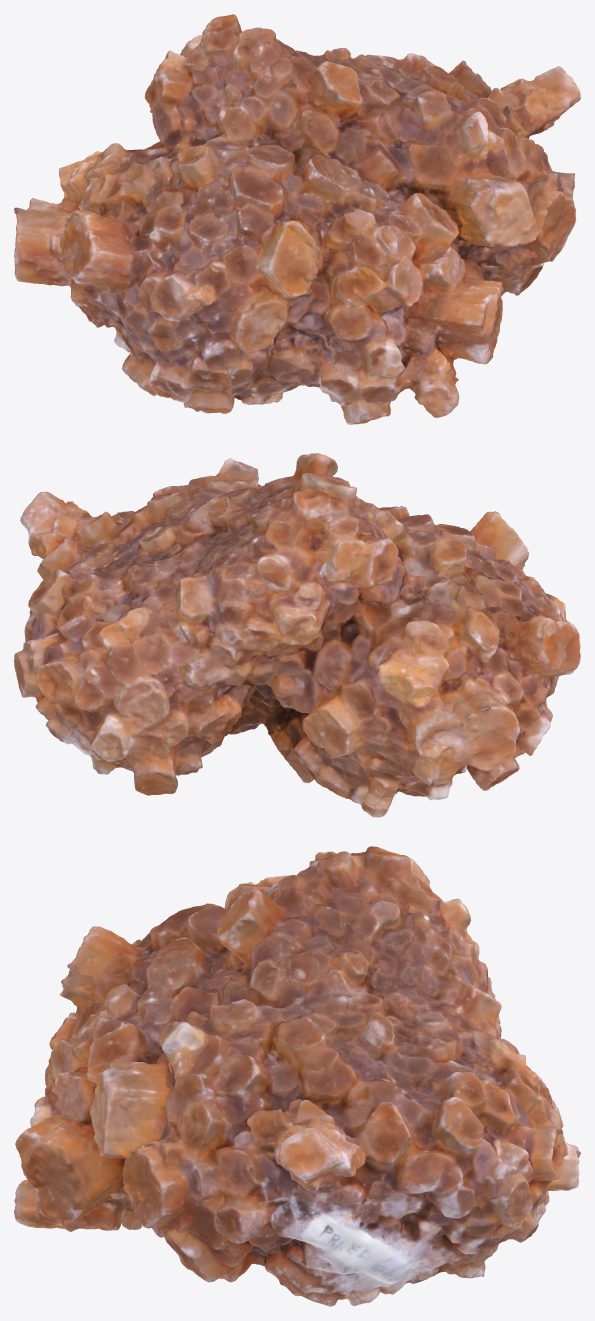
The model's file is mineral_aragonite.glb.
3 renders of one model, top to bottom at view 1: azimuth 30°, elevation 25°; view 2: azimuth 150°, elevation 25°; view 3: azimuth 270°, elevation 25°, orthographic. The views are drawn at different scales.
Visible parts, largest first — view 1: Object_3, Object_2, Object_4; view 2: Object_2, Object_3, Object_4; view 3: Object_2, Object_3, Object_4.
Boxes of the visible parts, <box> form: Object_3: <box>14,14,547,424</box>; Object_2: <box>154,27,580,402</box>; Object_4: <box>182,14,493,402</box>; Object_2: <box>14,453,368,795</box>; Object_3: <box>218,453,580,817</box>; Object_4: <box>265,459,356,790</box>; Object_2: <box>15,852,580,1306</box>; Object_3: <box>14,846,487,1229</box>; Object_4: <box>14,847,478,1230</box>.
Bounding box in the file's own units: 2.44 × 1.46 × 1.98.
1 material, 1 textured.
